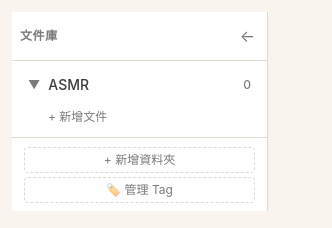
Test case: Sidebar › shows FolderContextMenu on folder right-click
Right-click the text "ASMR".
right_click(69, 85)  # box [48, 75, 89, 95]
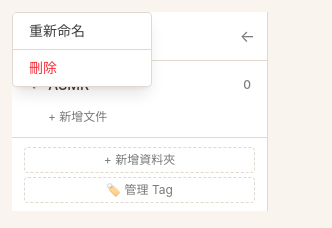
Now the button "重新命名" is shown, box [13, 13, 151, 49]
Now the button "刪除" is shown, box [13, 50, 151, 86]
